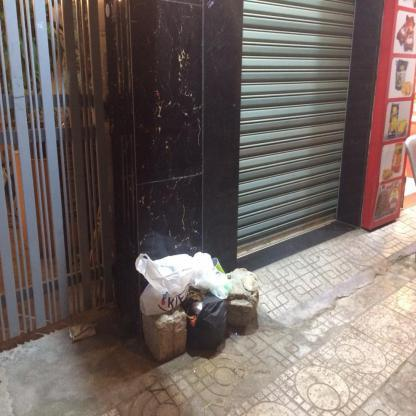karton: (213, 259, 227, 275)
plastik: (139, 255, 193, 317), (189, 296, 229, 352), (192, 251, 232, 301)
